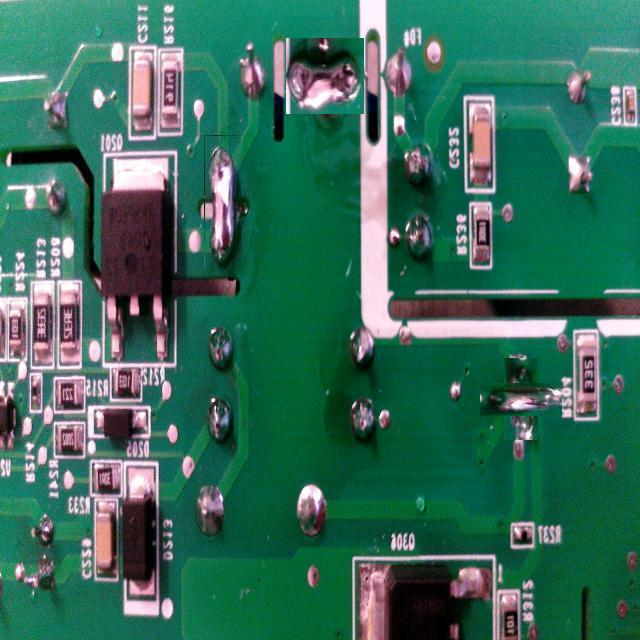Short_circuit: (286, 39, 364, 114), (204, 135, 241, 270), (492, 370, 550, 428)
